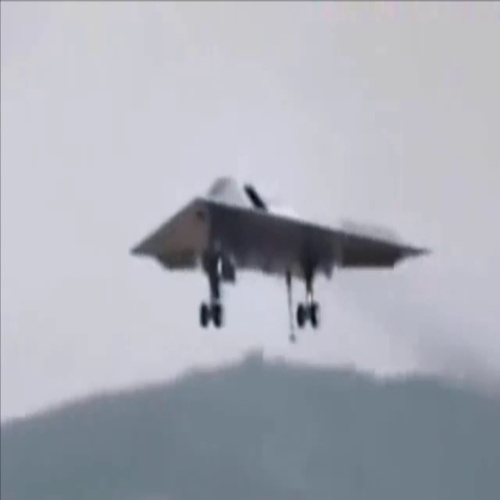uav1030: (122, 171, 438, 341)
